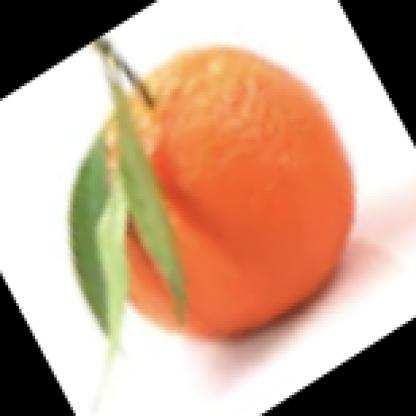fresh: (72, 46, 355, 339)
